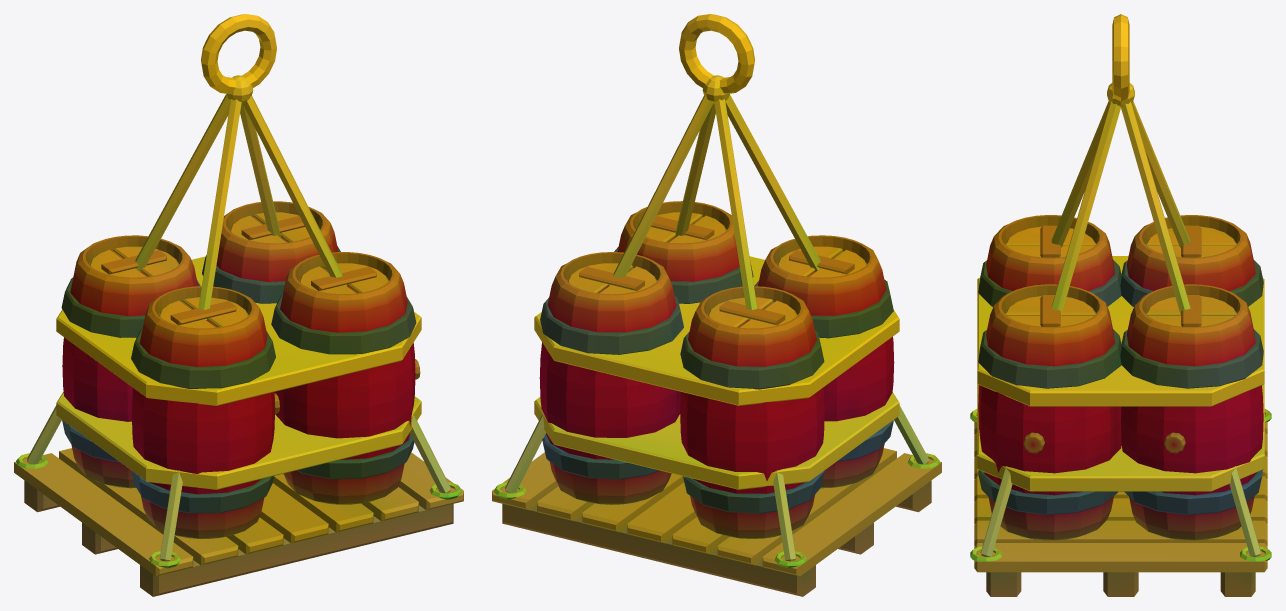
The model's file is Prop_CargoBarrels.fbx.
The picture shows the model from 3 angles, left to right: view 1: azimuth 30°, elevation 25°; view 2: azimuth 150°, elevation 25°; view 3: azimuth 270°, elevation 25°; orthographic projection.
Parts seen in each view (by area): view 1: Cargo; view 2: Cargo; view 3: Cargo.
Boxes of the visible parts, <box> form: Cargo: <box>14,14,463,596</box>; Cargo: <box>492,14,941,596</box>; Cargo: <box>970,14,1271,596</box>.
Size of the model in its own units: 1.23 by 1.9 by 1.03.
